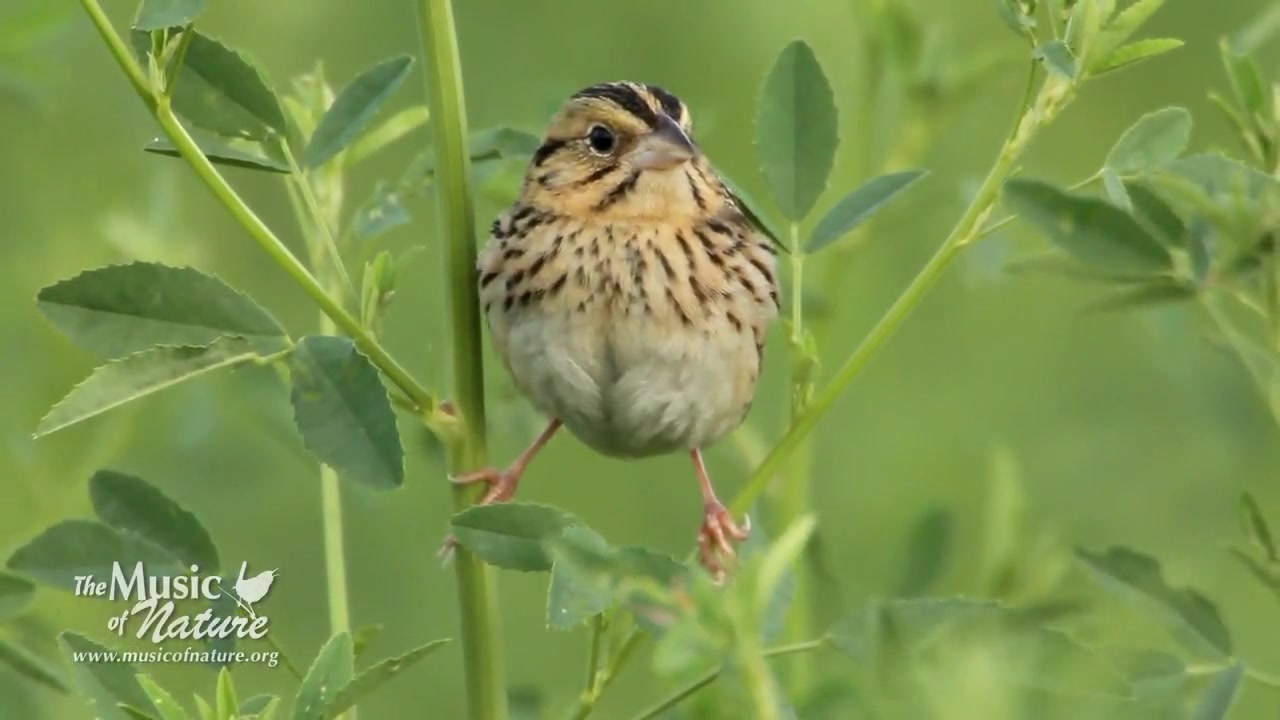bird: (438, 79, 795, 587)
